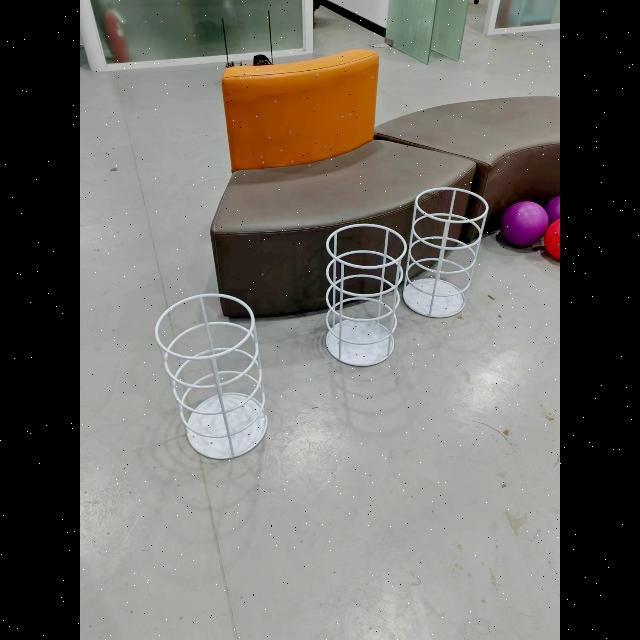P: (499, 201, 548, 247), (545, 196, 560, 225)
R: (545, 219, 560, 259)
S: (154, 294, 270, 464), (325, 224, 401, 370), (409, 191, 489, 323)
